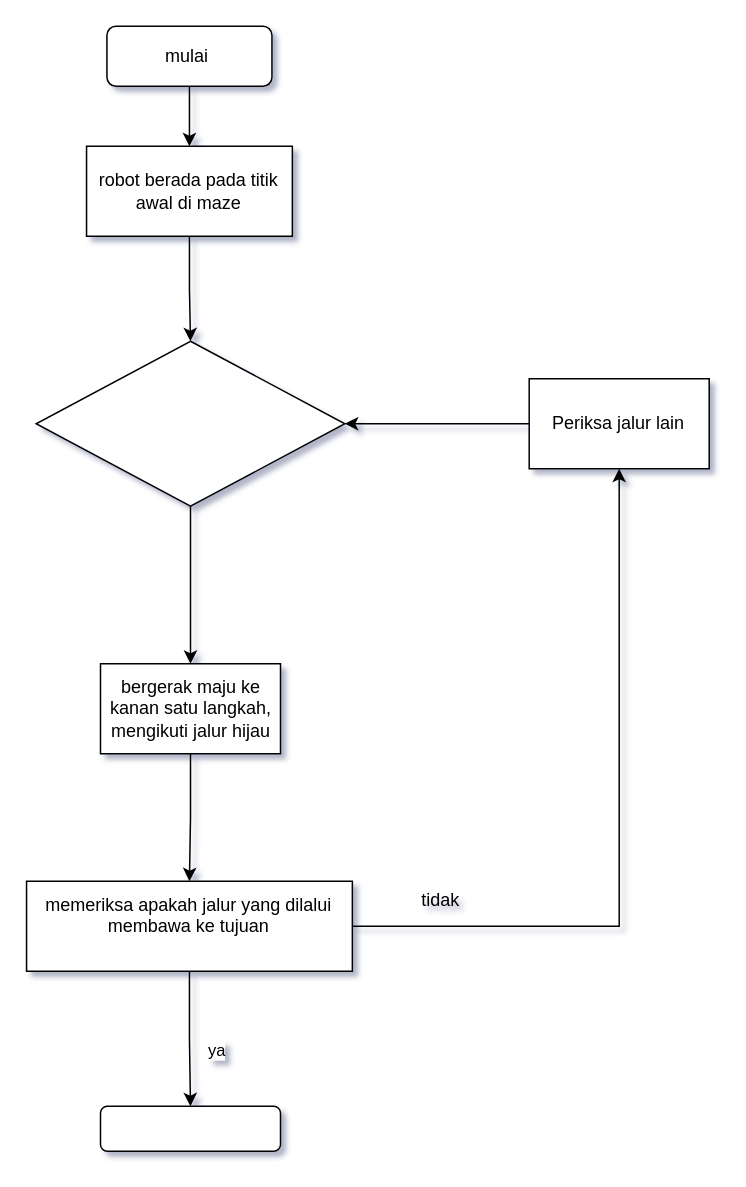
Image size: 746x1187. Some labels were removed from this diagram. Here are the shapes that lost their labels. From the top down, the centre of each, then its label:
At point (190, 423): "periksa apakah ada tembok atau hambatan di jalur kanan".
At point (189, 1128): "selesai".
